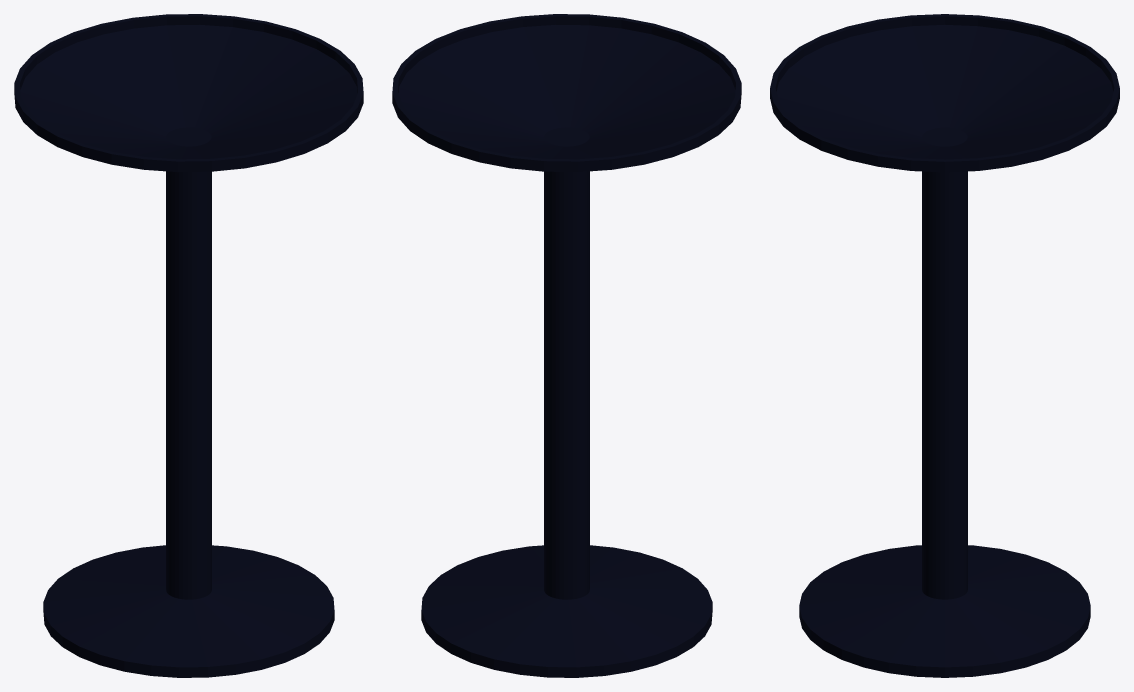
The model's file is fireplace.fbx.
The picture shows the model from 3 angles, left to right: view 1: azimuth 30°, elevation 25°; view 2: azimuth 150°, elevation 25°; view 3: azimuth 270°, elevation 25°; orthographic projection.
Visible parts, largest first — view 1: Cylinder; view 2: Cylinder; view 3: Cylinder.
Boxes of the visible parts, box(x1,y1,x2,y2) form: Cylinder: box(14, 14, 363, 677); Cylinder: box(392, 14, 741, 677); Cylinder: box(770, 14, 1119, 677).
Bounding box in the file's own units: 60 × 100 × 60.
